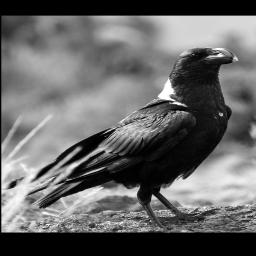Crow: (26, 43, 245, 231)
